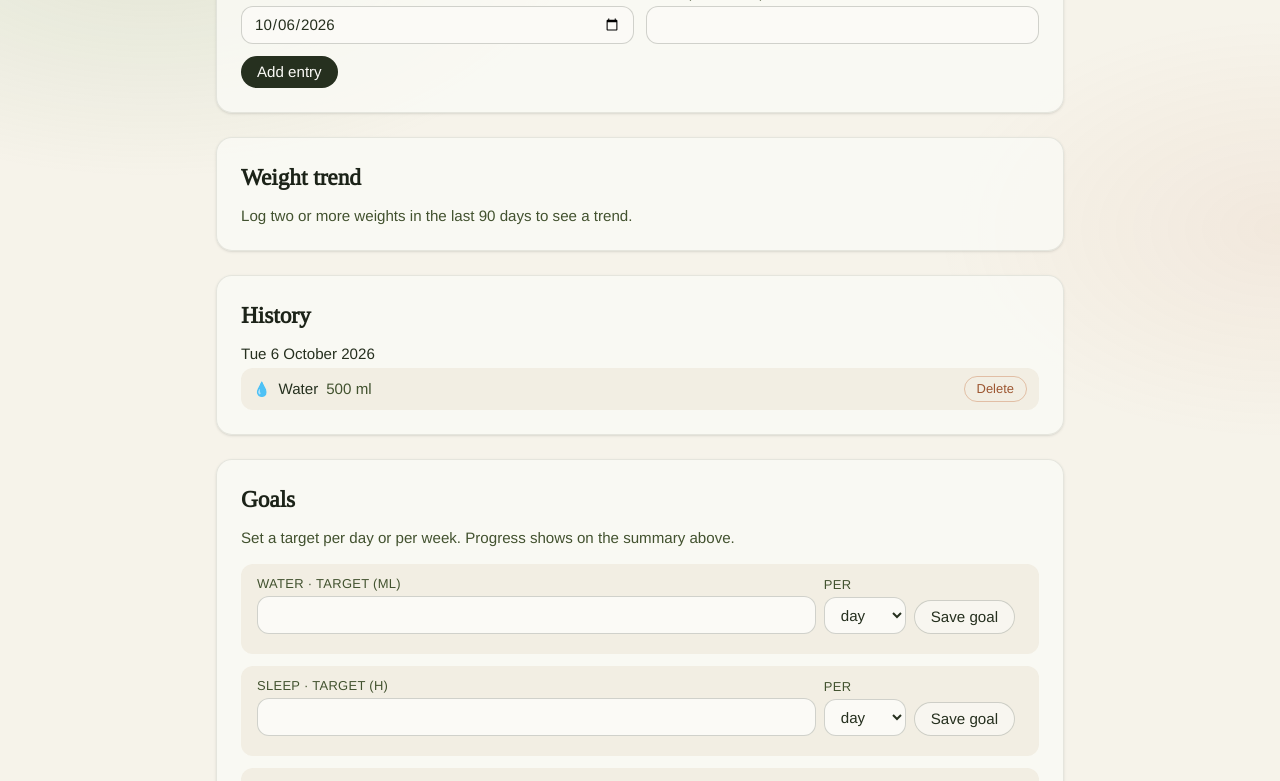
Scenario: <ProfilePage> — history › a refused delete restores the row and shows the failure
The width and height of the screenshot is (1280, 781).
(page scrolled)
Click the button "Delete" at (995, 389), box [964,376,1027,402]
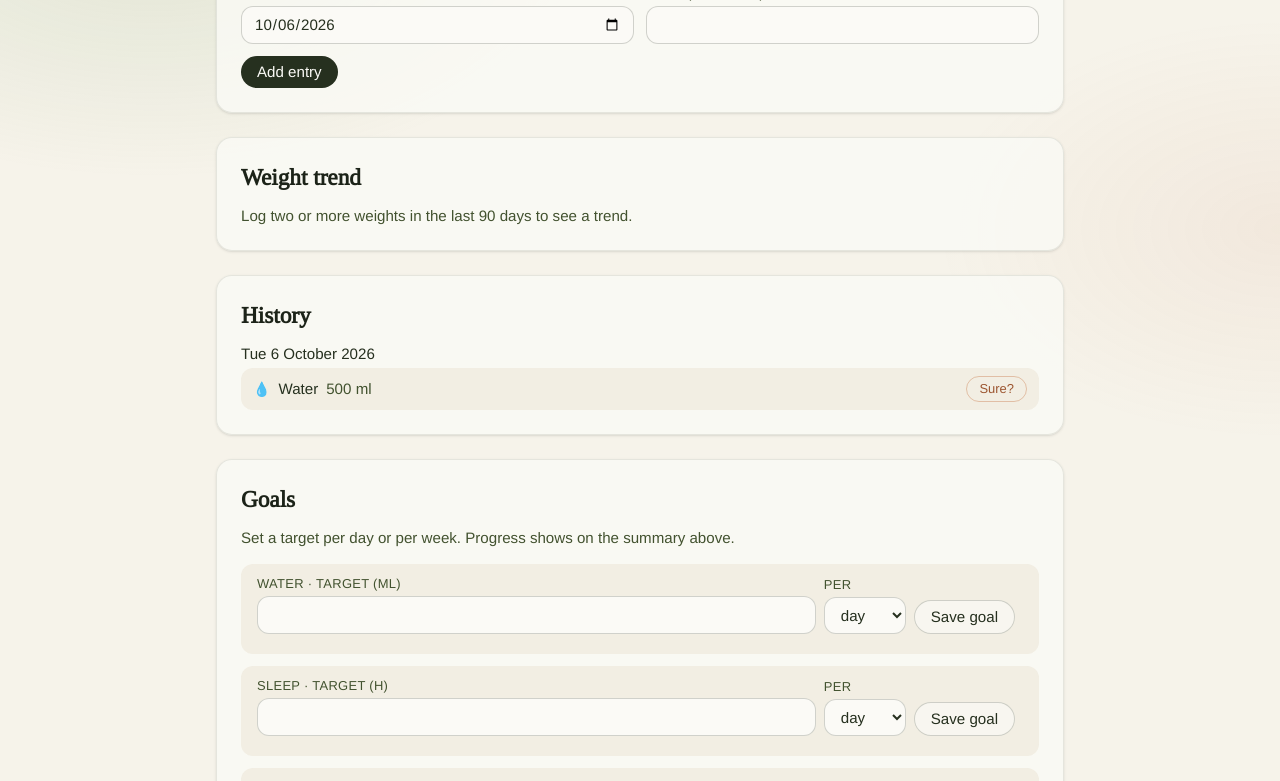
Click the button named "Delete" at (997, 389), box [966,376,1027,402]
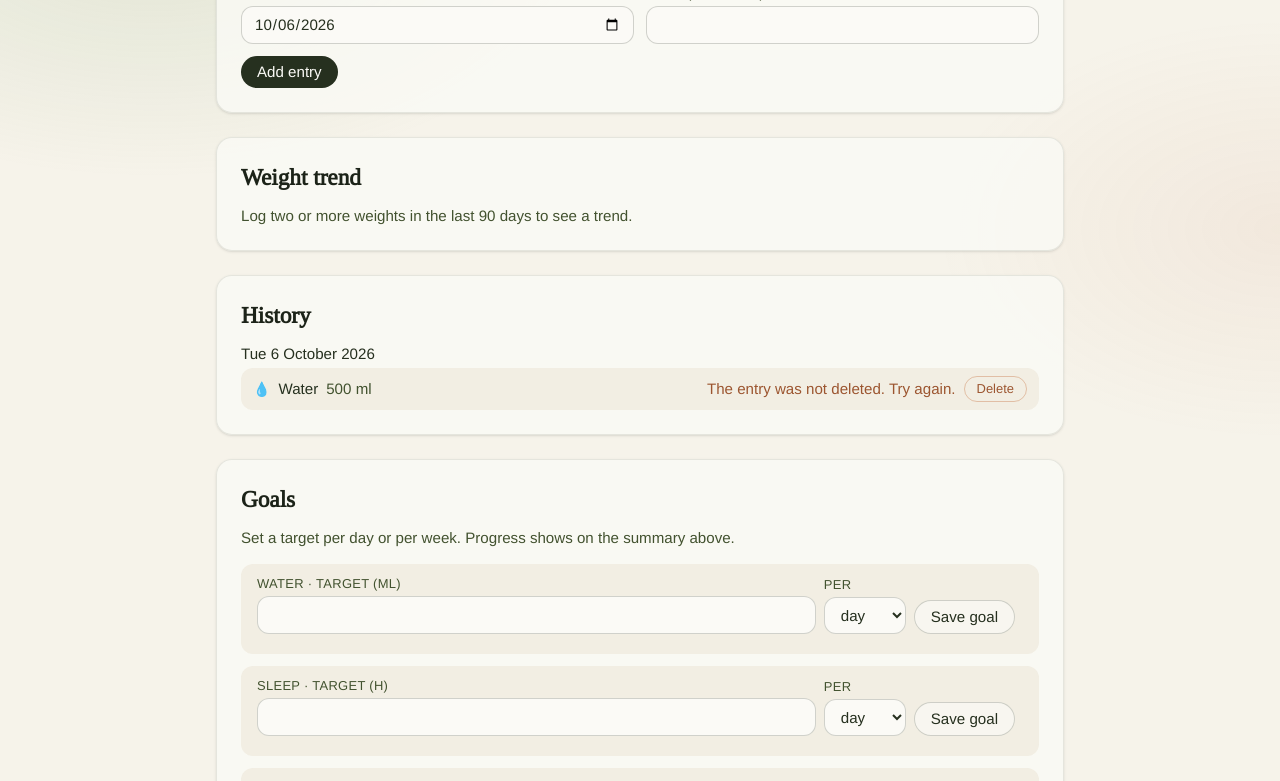
Expected: the text "500 ml" is shown, [326,379,372,399]
Now the message reads "The entry was not deleted. Try again.", box [707,380,956,397]
